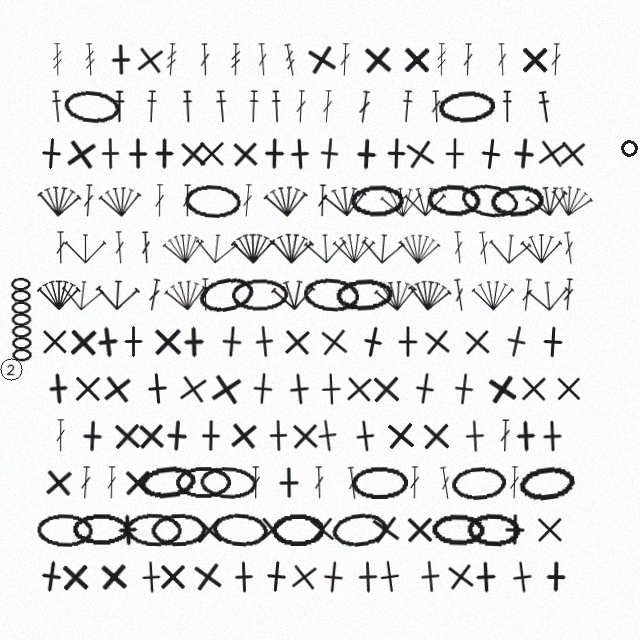chain: (196, 273, 256, 316), (459, 180, 520, 222), (517, 463, 576, 503), (330, 510, 390, 549), (138, 463, 197, 502), (62, 88, 121, 126), (211, 511, 270, 548), (302, 276, 360, 313), (437, 89, 496, 125), (199, 465, 258, 501), (335, 277, 393, 313), (184, 183, 241, 219), (489, 183, 546, 219), (450, 465, 507, 501), (150, 512, 208, 547), (125, 512, 182, 547), (231, 278, 289, 312), (426, 183, 482, 218), (466, 512, 522, 547), (36, 513, 93, 547), (351, 466, 408, 499), (72, 513, 129, 546), (350, 184, 405, 218), (431, 513, 486, 547), (175, 466, 231, 499), (271, 513, 326, 546)
double: (146, 278, 162, 312), (357, 90, 372, 124), (452, 278, 467, 312), (345, 466, 360, 500), (438, 466, 453, 500), (477, 231, 491, 265), (562, 231, 576, 265), (520, 278, 534, 312), (256, 43, 269, 76), (321, 90, 334, 123), (82, 184, 95, 217), (241, 184, 254, 217), (113, 231, 126, 264), (452, 231, 465, 264), (562, 278, 575, 311), (79, 466, 92, 499), (199, 43, 211, 76), (339, 43, 351, 76), (462, 43, 474, 76), (496, 43, 508, 76), (550, 43, 562, 76), (295, 90, 307, 123), (430, 90, 442, 123), (140, 231, 152, 264), (499, 419, 511, 452), (313, 466, 325, 499), (154, 184, 165, 217), (182, 184, 193, 217), (317, 184, 328, 217), (55, 231, 66, 264), (200, 278, 211, 311), (55, 419, 66, 452), (106, 466, 117, 499), (250, 466, 261, 499), (409, 466, 420, 499), (509, 466, 520, 499)
enseble_chain: (9, 277, 34, 363)
fan: (547, 180, 596, 221), (524, 181, 571, 220), (406, 276, 453, 314), (322, 182, 369, 219), (193, 229, 240, 266), (59, 276, 106, 313), (161, 229, 207, 266), (163, 276, 209, 313), (36, 183, 82, 219), (263, 183, 309, 219), (360, 230, 406, 266), (396, 230, 442, 266), (487, 230, 533, 266), (373, 277, 419, 313), (525, 277, 571, 313), (98, 183, 143, 219), (379, 183, 424, 219), (303, 230, 348, 265), (95, 277, 140, 312), (271, 277, 316, 312), (231, 231, 275, 265), (270, 231, 314, 265), (403, 184, 447, 217), (332, 231, 376, 264), (37, 278, 81, 311), (471, 278, 515, 311), (64, 231, 107, 264), (520, 231, 563, 264)
half_double: (536, 90, 553, 124), (214, 90, 229, 123), (50, 90, 64, 123), (400, 90, 414, 123), (113, 90, 126, 123), (145, 90, 158, 123), (181, 90, 194, 123), (247, 90, 260, 123), (270, 90, 283, 123), (501, 90, 513, 123)
noise: (0, 356, 24, 382), (618, 137, 640, 159)
single: (302, 40, 341, 79), (497, 322, 536, 361), (62, 135, 100, 173), (401, 135, 439, 173), (354, 323, 392, 361), (174, 370, 212, 408), (207, 370, 245, 408), (483, 370, 521, 408), (533, 135, 570, 172), (406, 370, 443, 407), (309, 417, 346, 454), (367, 511, 404, 548), (33, 558, 70, 595), (189, 558, 226, 595), (371, 558, 408, 595), (442, 558, 479, 595), (132, 42, 168, 78), (473, 136, 509, 172), (90, 324, 126, 360), (316, 324, 352, 360), (419, 324, 455, 360), (99, 371, 135, 407), (281, 371, 317, 407), (446, 371, 482, 407), (347, 418, 383, 454), (286, 559, 322, 595), (315, 559, 351, 595), (504, 559, 540, 595), (360, 42, 395, 77), (34, 136, 69, 171), (312, 136, 347, 171), (506, 136, 541, 171), (555, 136, 590, 171), (214, 324, 249, 359), (247, 324, 282, 359), (41, 371, 76, 406), (140, 371, 175, 406), (245, 371, 280, 406), (159, 418, 194, 453), (226, 418, 261, 453), (383, 418, 418, 453), (41, 465, 76, 500), (255, 512, 290, 547), (304, 512, 339, 547), (96, 559, 131, 594), (259, 559, 294, 594), (413, 559, 448, 594), (176, 137, 210, 171), (228, 137, 262, 171), (283, 137, 317, 171), (349, 137, 383, 171), (66, 325, 100, 359), (177, 325, 211, 359), (280, 325, 314, 359), (460, 325, 494, 359), (536, 325, 570, 359), (314, 372, 348, 406), (342, 372, 376, 406), (369, 372, 403, 406), (75, 419, 109, 453), (110, 419, 144, 453), (134, 419, 168, 453), (288, 419, 322, 453), (419, 419, 453, 453), (458, 419, 492, 453), (509, 419, 543, 453), (535, 419, 569, 453), (111, 513, 145, 547), (192, 513, 226, 547), (58, 560, 92, 594), (134, 560, 168, 594), (227, 560, 261, 594), (351, 560, 385, 594), (469, 560, 503, 594), (104, 43, 137, 76), (400, 43, 433, 76), (518, 43, 551, 76), (94, 137, 127, 170), (121, 137, 154, 170), (148, 137, 181, 170), (195, 137, 228, 170), (258, 137, 291, 170), (380, 137, 413, 170), (438, 137, 471, 170), (38, 325, 71, 358), (117, 325, 150, 358), (151, 325, 184, 358), (391, 325, 424, 358), (71, 372, 104, 405), (517, 372, 550, 405), (552, 372, 585, 405), (194, 419, 227, 452), (262, 419, 295, 452), (121, 466, 154, 499), (272, 466, 305, 499), (403, 513, 436, 546), (498, 513, 531, 546), (533, 513, 566, 546), (156, 560, 189, 593), (539, 560, 572, 593)
treble: (282, 43, 298, 77), (165, 43, 178, 76), (84, 43, 96, 76), (52, 43, 63, 76), (230, 43, 241, 76), (436, 43, 447, 76)
